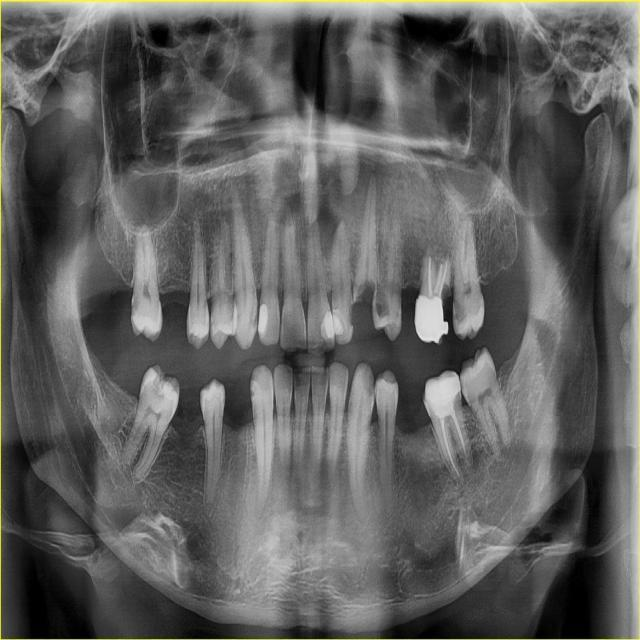Caries: (372, 288, 389, 324), (452, 294, 464, 331), (250, 294, 258, 334), (131, 290, 140, 320), (441, 282, 451, 307), (369, 372, 375, 405), (347, 301, 353, 327), (460, 374, 467, 396), (210, 317, 215, 331)
Filling: (425, 370, 465, 417), (415, 294, 448, 342), (320, 307, 334, 348), (332, 309, 345, 337), (258, 304, 268, 339)
Missing teeth: (392, 381, 432, 435), (222, 378, 253, 431), (166, 395, 202, 435), (159, 291, 191, 335), (399, 289, 422, 338)
Root Canal Treatment: (440, 418, 460, 478), (451, 408, 467, 460), (432, 263, 443, 295), (438, 259, 447, 297), (428, 256, 433, 298)
Root Piece: (352, 172, 378, 304)
